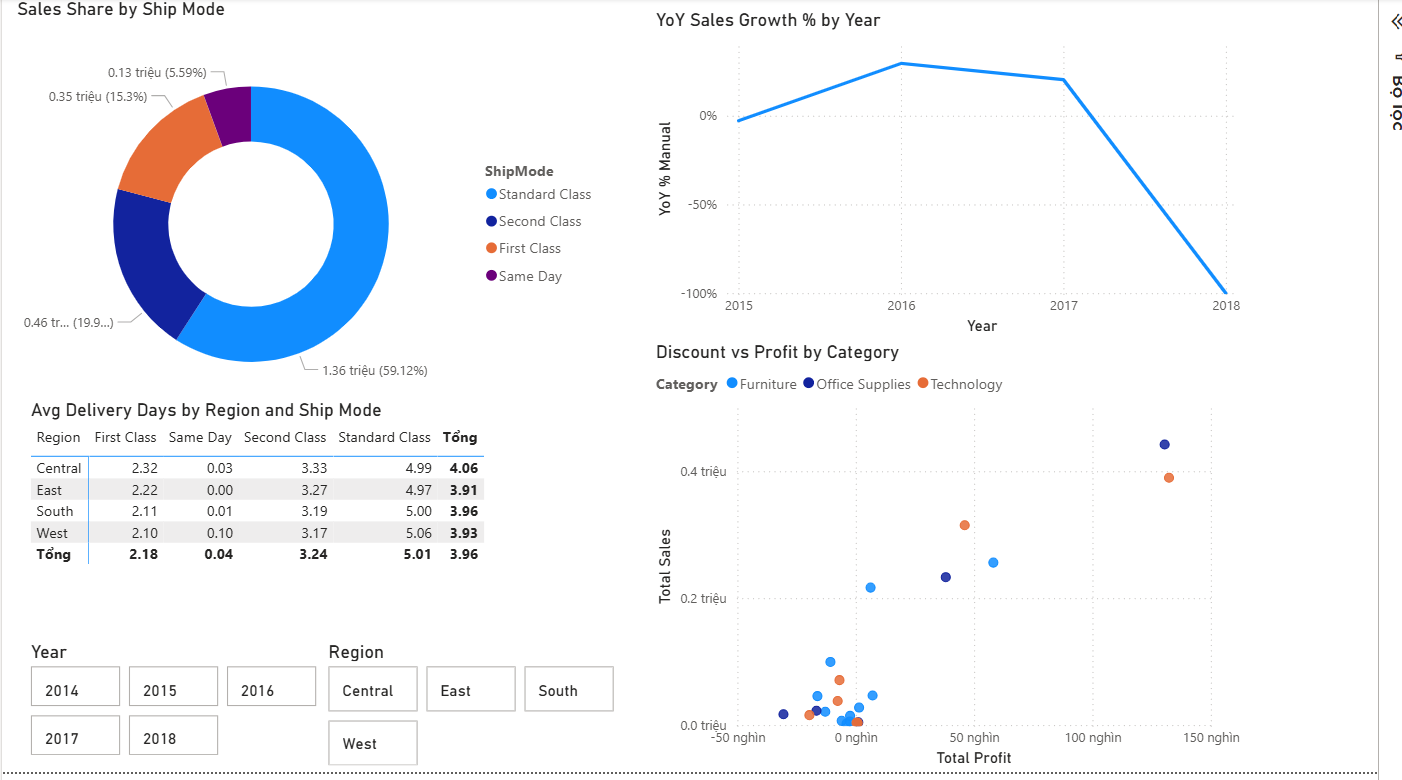

The page's visual inventory and layout, read from the dashboard file:
{"tool":"powerbi","page":{"name":"Shipping Geo","canvas":[1280,720],"ordinal":2},"visuals":[{"type":"donutChart","title":"Sales Share by Ship Mode","fields":{"Category":["DimShipMode.ShipMode"],"Y":["FactSales.Total Sales"]},"box":[9.6,0,553,402.1],"z":0},{"type":"pivotTable","title":"Avg Delivery Days by Region and Ship Mode","fields":{"Rows":["DimGeography.Region"],"Columns":["DimShipMode.ShipMode"],"Values":["FactSales.Avg Delivery Days"]},"box":[21.7,373.4,552.8,180.7],"z":1000},{"type":"scatterChart","title":"Discount vs Profit by Category","fields":{"Category":["FactSales.Discount"],"X":["FactSales.Total Profit"],"Y":["FactSales.Total Sales"],"Series":["DimProduct.Category"]},"box":[603.4,318.6,553.2,401.5],"z":2000},{"type":"lineChart","title":"YoY Sales Growth % by Year","fields":{"Category":["DimDate.Year"],"Y":["FactSales.YoY % Manual"]},"box":[603.4,10.5,553.2,308.1],"z":3000},{"type":"advancedSlicerVisual","fields":{"Values":["DimDate.Year"]},"box":[21.7,597.4,277,112],"z":4000},{"type":"advancedSlicerVisual","fields":{"Values":["DimGeography.Region"]},"box":[298.7,597.4,275.8,122.8],"z":5000}]}

Visuals, with their boxes in screenshot pixels (x1, y1, x2, y2), scaled from the page's 1280x720 canvas onto the 1402x780 screenshot:
"Sales Share by Ship Mode" donutChart: [x1=11, y1=0, x2=616, y2=436]
"Avg Delivery Days by Region and Ship Mode" pivotTable: [x1=24, y1=405, x2=629, y2=600]
"Discount vs Profit by Category" scatterChart: [x1=661, y1=345, x2=1267, y2=779]
"YoY Sales Growth % by Year" lineChart: [x1=661, y1=11, x2=1267, y2=345]
advancedSlicerVisual - DimDate.Year: [x1=24, y1=647, x2=327, y2=769]
advancedSlicerVisual - DimGeography.Region: [x1=327, y1=647, x2=629, y2=779]
